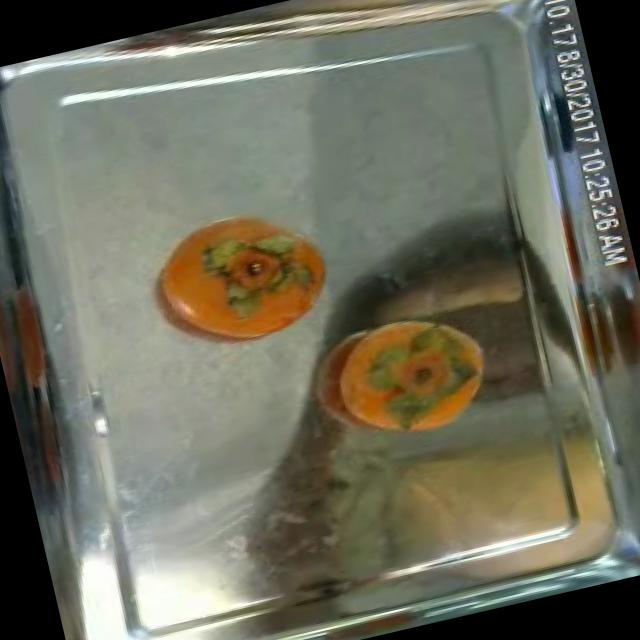Fruit: (293, 293, 511, 461)
